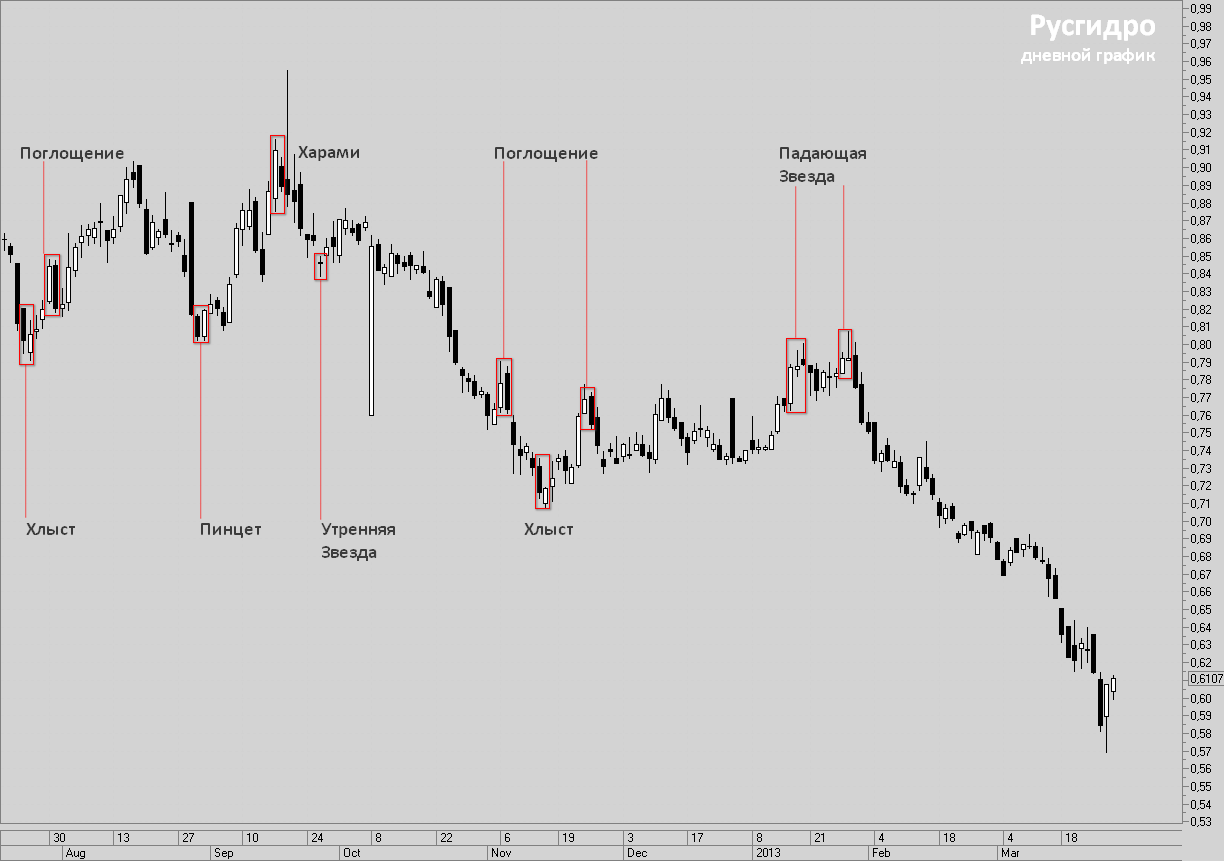bearishEngulfing: (45, 255, 58, 313), (582, 390, 594, 428)
bullishEngulfing: (498, 360, 510, 413)
